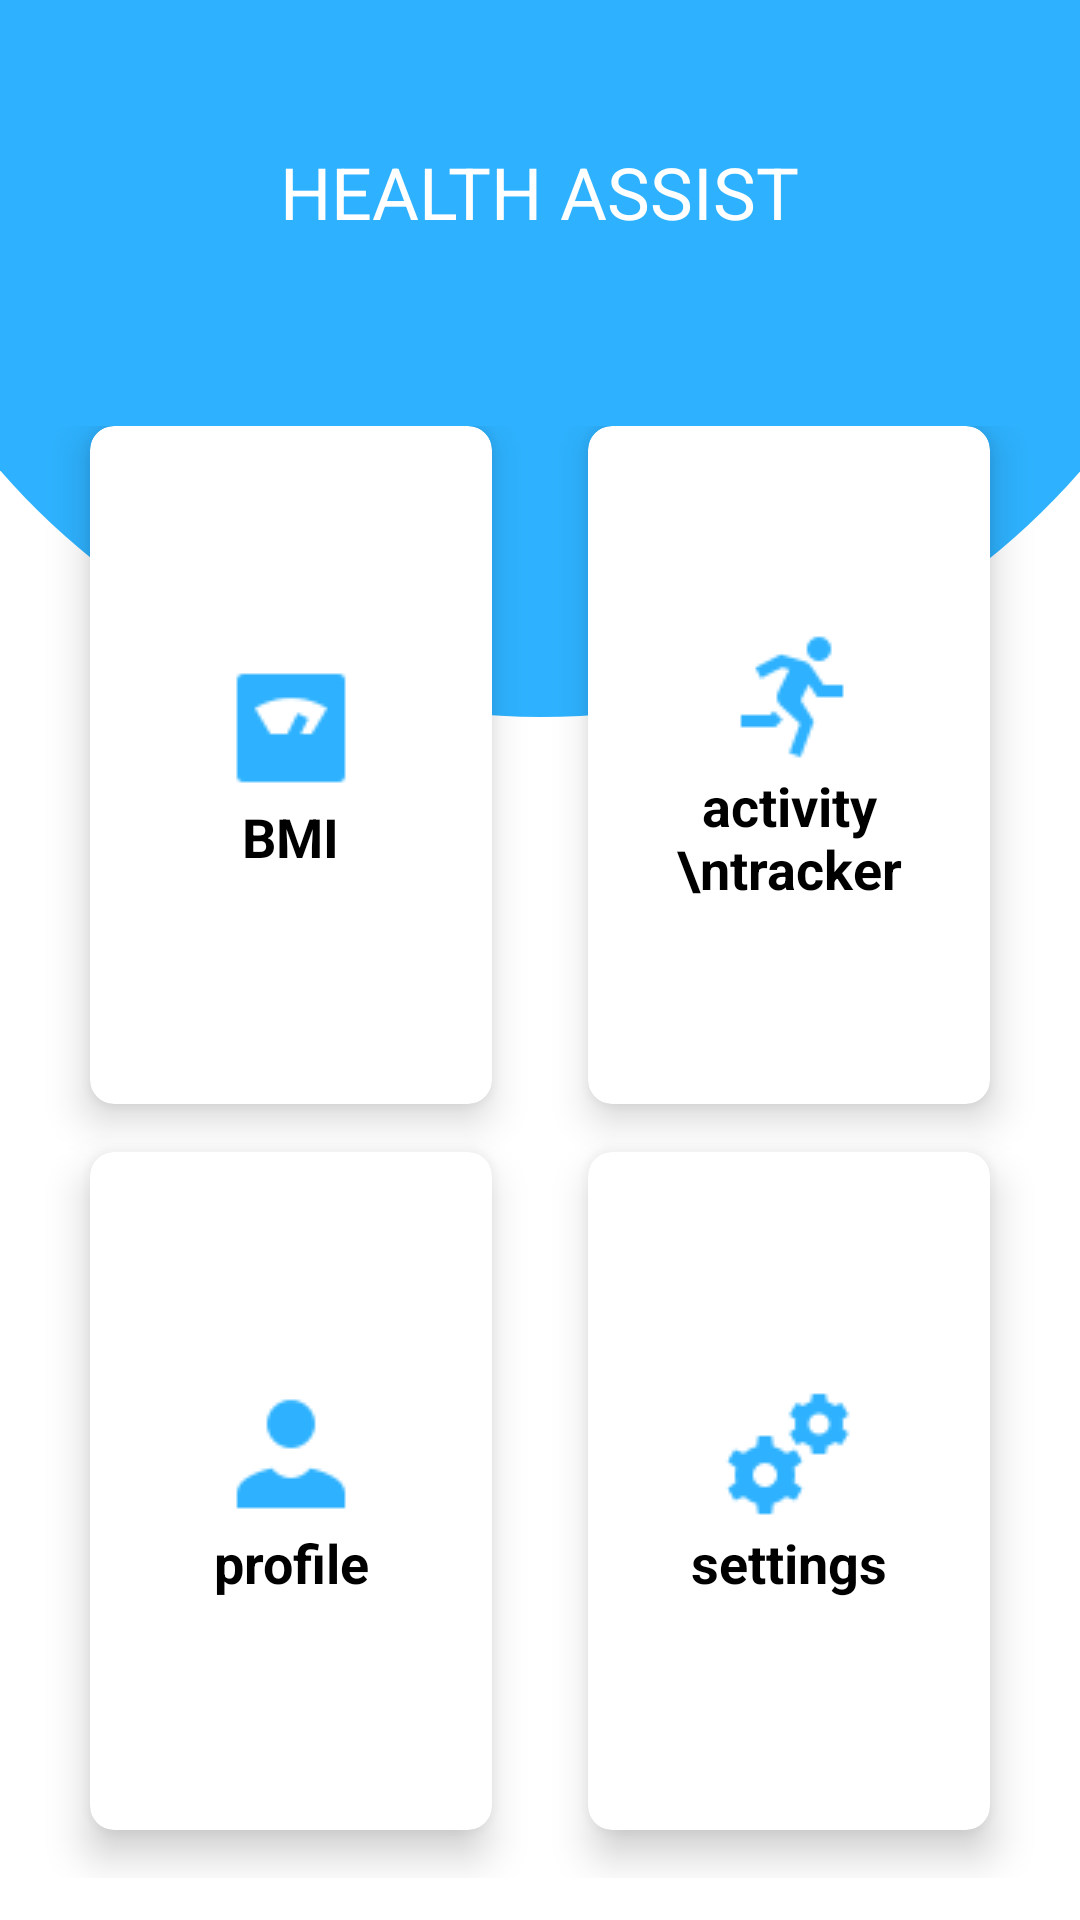

Screen size 1080w x 1920h. Icon name, then its center in pixels as point (x, y):
running: point (792, 697)
user: point (291, 1454)
